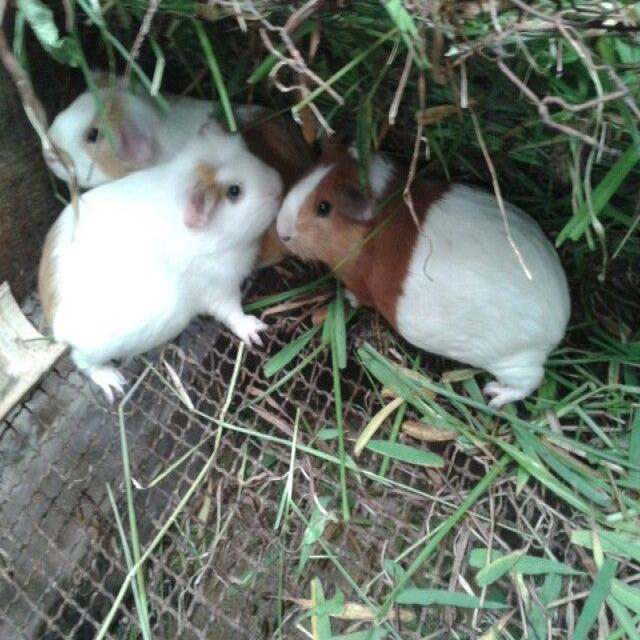guinea pig: (272, 122, 578, 430), (33, 160, 278, 395), (35, 62, 303, 184)
